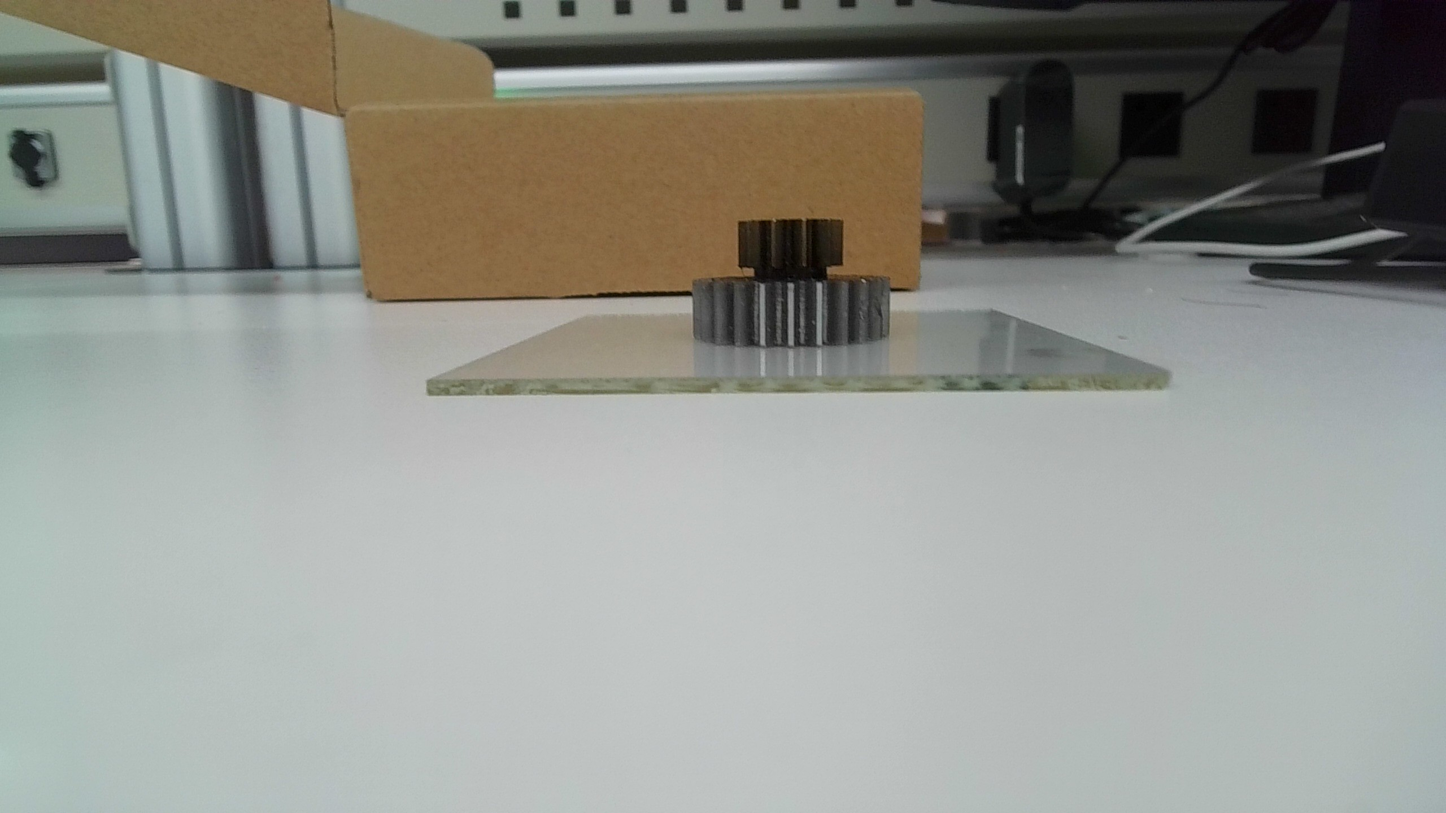gear: (692, 218, 895, 349)
